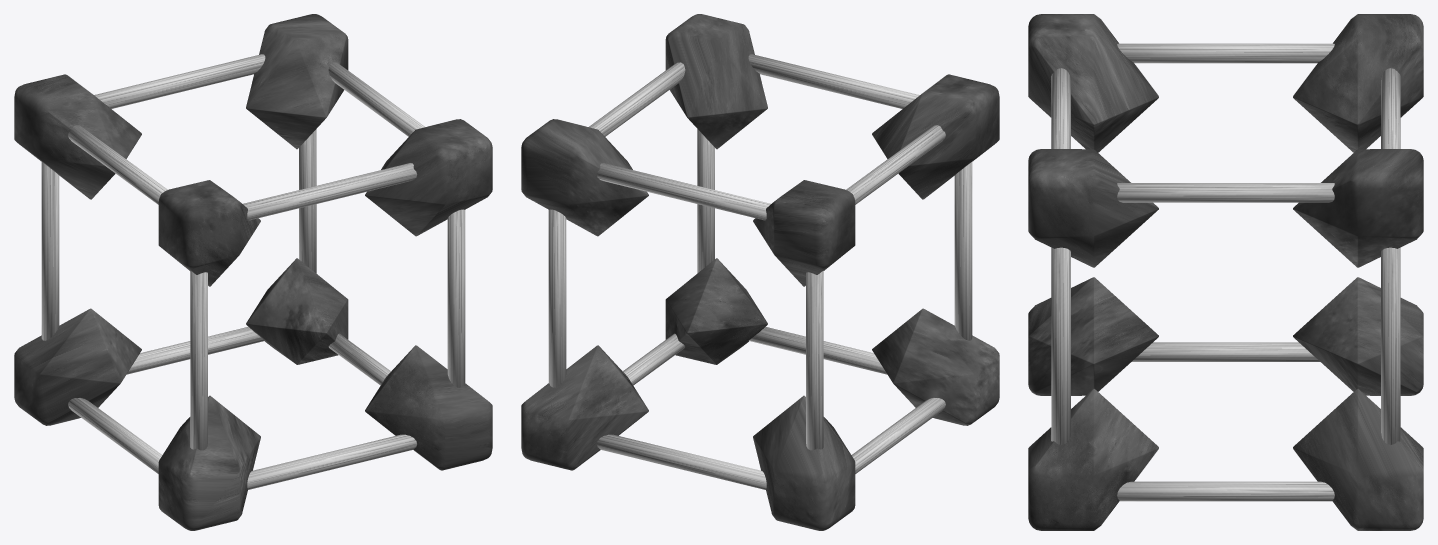
3 views of the same model, side by side, from view 1: azimuth 30°, elevation 25°; view 2: azimuth 150°, elevation 25°; view 3: azimuth 270°, elevation 25° (orthographic). The views are drawn at different scales.
Visible parts, largest first — view 1: 边框, 扶手; view 2: 边框, 扶手; view 3: 边框, 扶手.
Boxes of the visible parts, x1=… form: 边框: x1=14, y1=14, x2=492, y2=530; 扶手: x1=41, y1=54, x2=465, y2=489; 边框: x1=521, y1=14, x2=999, y2=530; 扶手: x1=548, y1=54, x2=972, y2=489; 边框: x1=1028, y1=14, x2=1423, y2=530; 扶手: x1=1051, y1=43, x2=1400, y2=501.
Bounding box in the file's own units: 0.6 × 0.6 × 0.6.
Materials: 2 (2 with a texture image).
